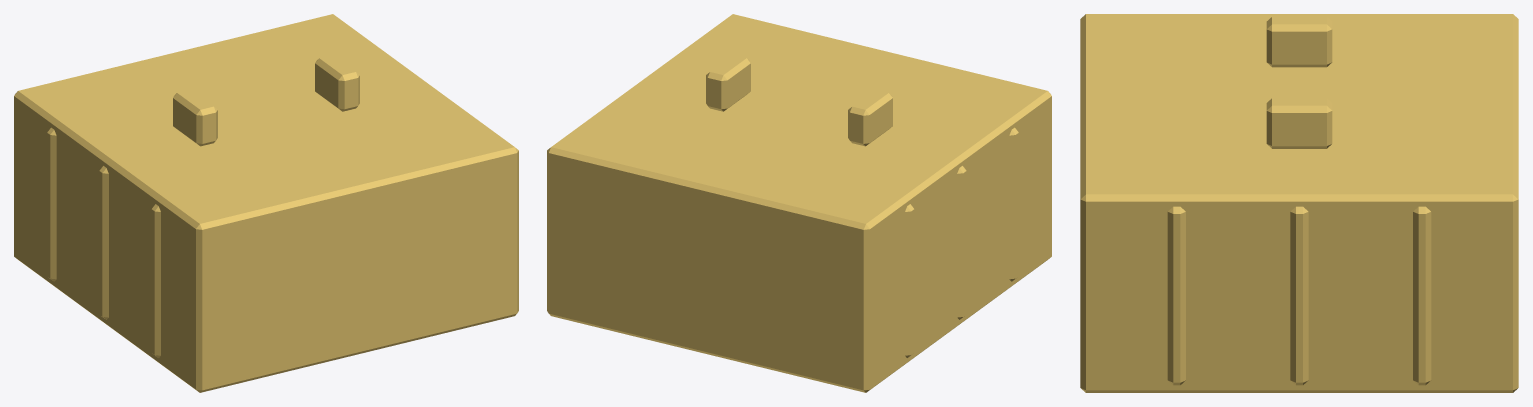
Rendered from SM_Counterweight_2p4x1p2x2p4.glb.
3 views of the same model, side by side, from view 1: azimuth 30°, elevation 25°; view 2: azimuth 150°, elevation 25°; view 3: azimuth 270°, elevation 25° (orthographic). The views are drawn at different scales.
Parts seen in each view (by area): view 1: SM_Counterweight_2p4x1p2x2p4; view 2: SM_Counterweight_2p4x1p2x2p4; view 3: SM_Counterweight_2p4x1p2x2p4.
Boxes of the visible parts, x1,y1,x2,y2 form: SM_Counterweight_2p4x1p2x2p4: (14,14,518,392); SM_Counterweight_2p4x1p2x2p4: (547,14,1051,392); SM_Counterweight_2p4x1p2x2p4: (1080,14,1518,392).
Bounding box in the file's own units: 2.46 × 1.46 × 2.4.
